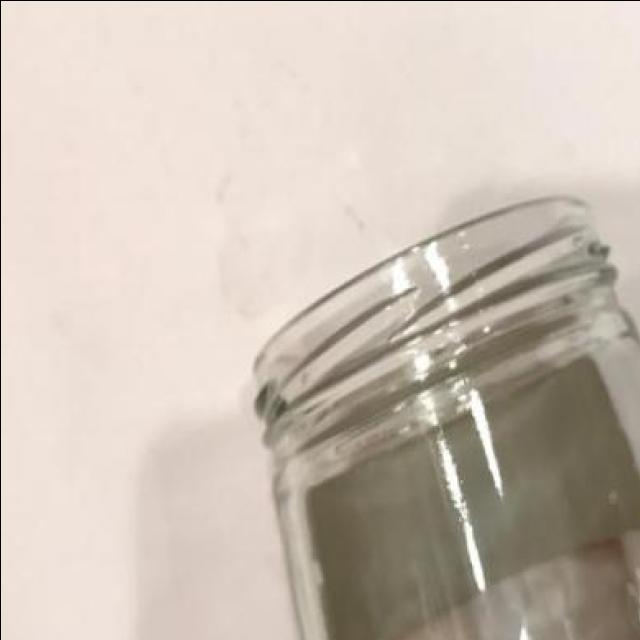kaca: (250, 195, 640, 640)
